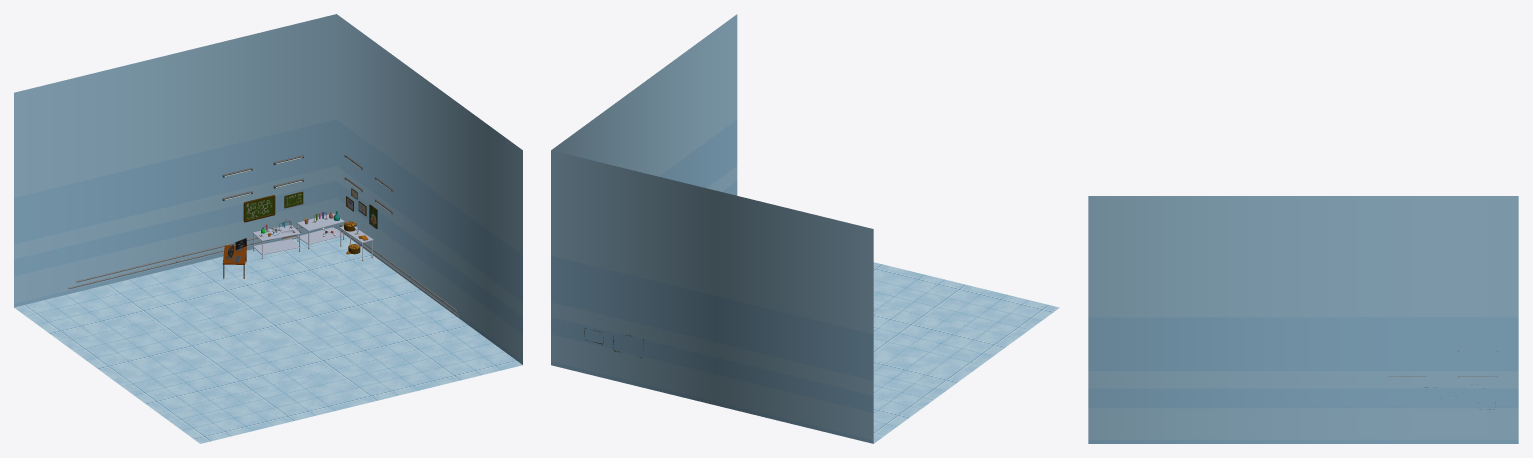
File: Lab_Level.fbx
3 renders of one model, left to right at view 1: azimuth 30°, elevation 25°; view 2: azimuth 150°, elevation 25°; view 3: azimuth 270°, elevation 25°, orthographic. The views are drawn at different scales.
Parts seen in each view (by area): view 1: Walls, Floor_SET, Tables3, Tables2, Board_2; view 2: Walls, Floor_SET; view 3: Walls.
Boxes of the visible parts, bbox=[...] form: Walls: bbox=[14, 14, 522, 364]; Floor_SET: bbox=[14, 229, 522, 443]; Tables3: bbox=[252, 225, 300, 258]; Tables2: bbox=[296, 213, 344, 248]; Board_2: bbox=[243, 195, 275, 222]; Walls: bbox=[551, 14, 873, 443]; Floor_SET: bbox=[873, 262, 1059, 443]; Walls: bbox=[1088, 196, 1518, 443].
Bounding box in the file's own units: 1738 × 1108 × 1738.
